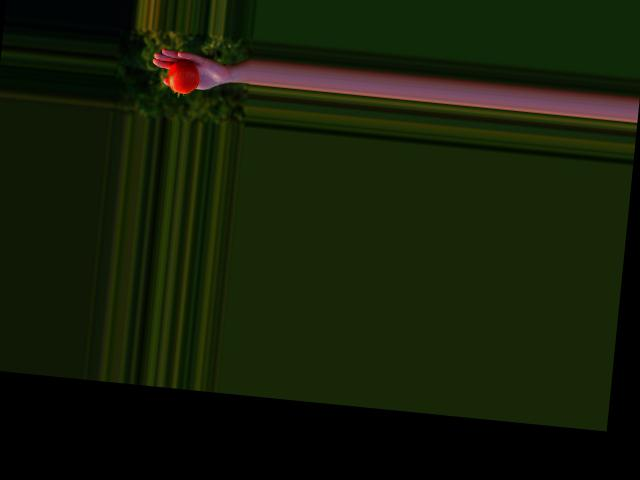tomato: (166, 57, 200, 94)
